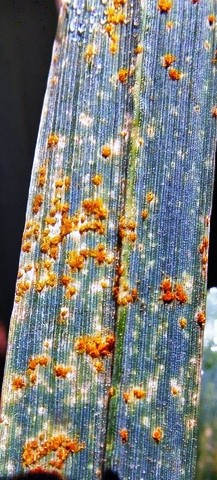Leaf Rust: (1, 116, 202, 476)
